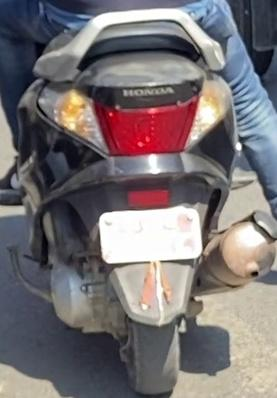license-plate: (97, 208, 210, 267)
